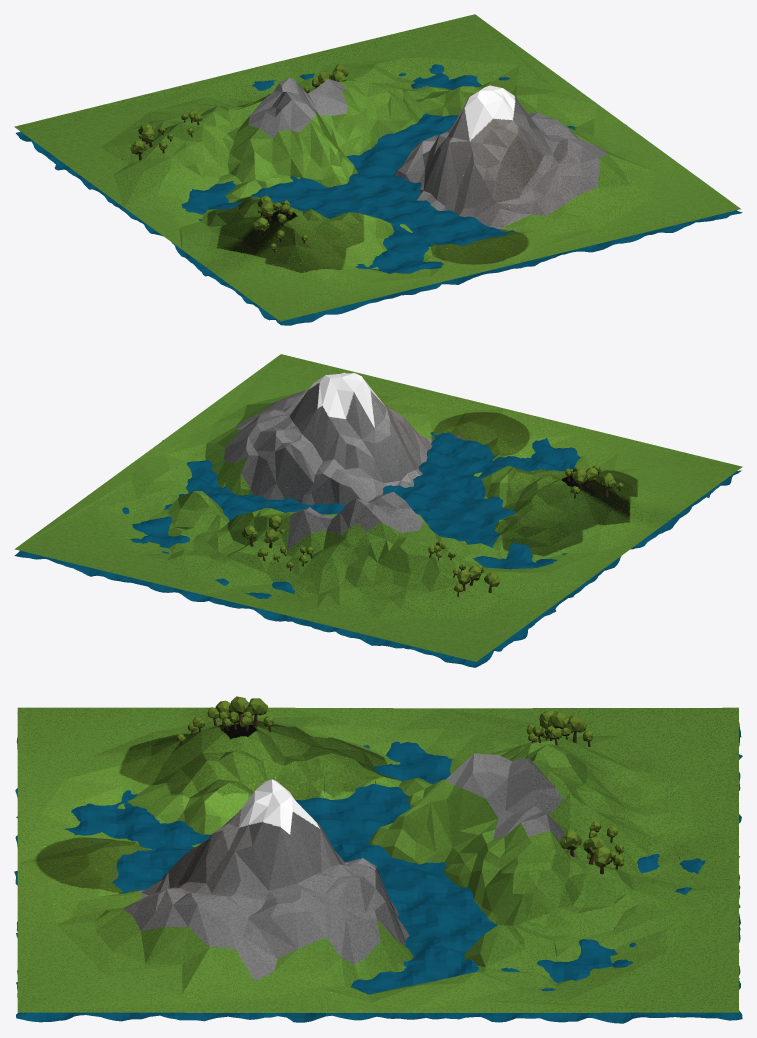
The model's file is landscape_trees.glb.
3 renders of one model, top to bottom at view 1: azimuth 30°, elevation 25°; view 2: azimuth 150°, elevation 25°; view 3: azimuth 270°, elevation 25°, orthographic. The views are drawn at different scales.
Parts seen in each view (by area): view 1: Landscape, Landscape_plane; view 2: Landscape, Landscape_plane; view 3: Landscape, Landscape_plane.
Boxes of the visible parts, x1=… form: Landscape: x1=14, y1=14, x2=740, y2=321; Landscape_plane: x1=16, y1=64, x2=742, y2=325; Landscape: x1=14, y1=354, x2=742, y2=661; Landscape_plane: x1=14, y1=432, x2=741, y2=667; Landscape: x1=17, y1=707, x2=738, y2=1012; Landscape_plane: x1=14, y1=713, x2=742, y2=1023.
Bounding box in the file's own units: 10.15 × 2.38 × 10.1.
6 materials, 5 textured.
